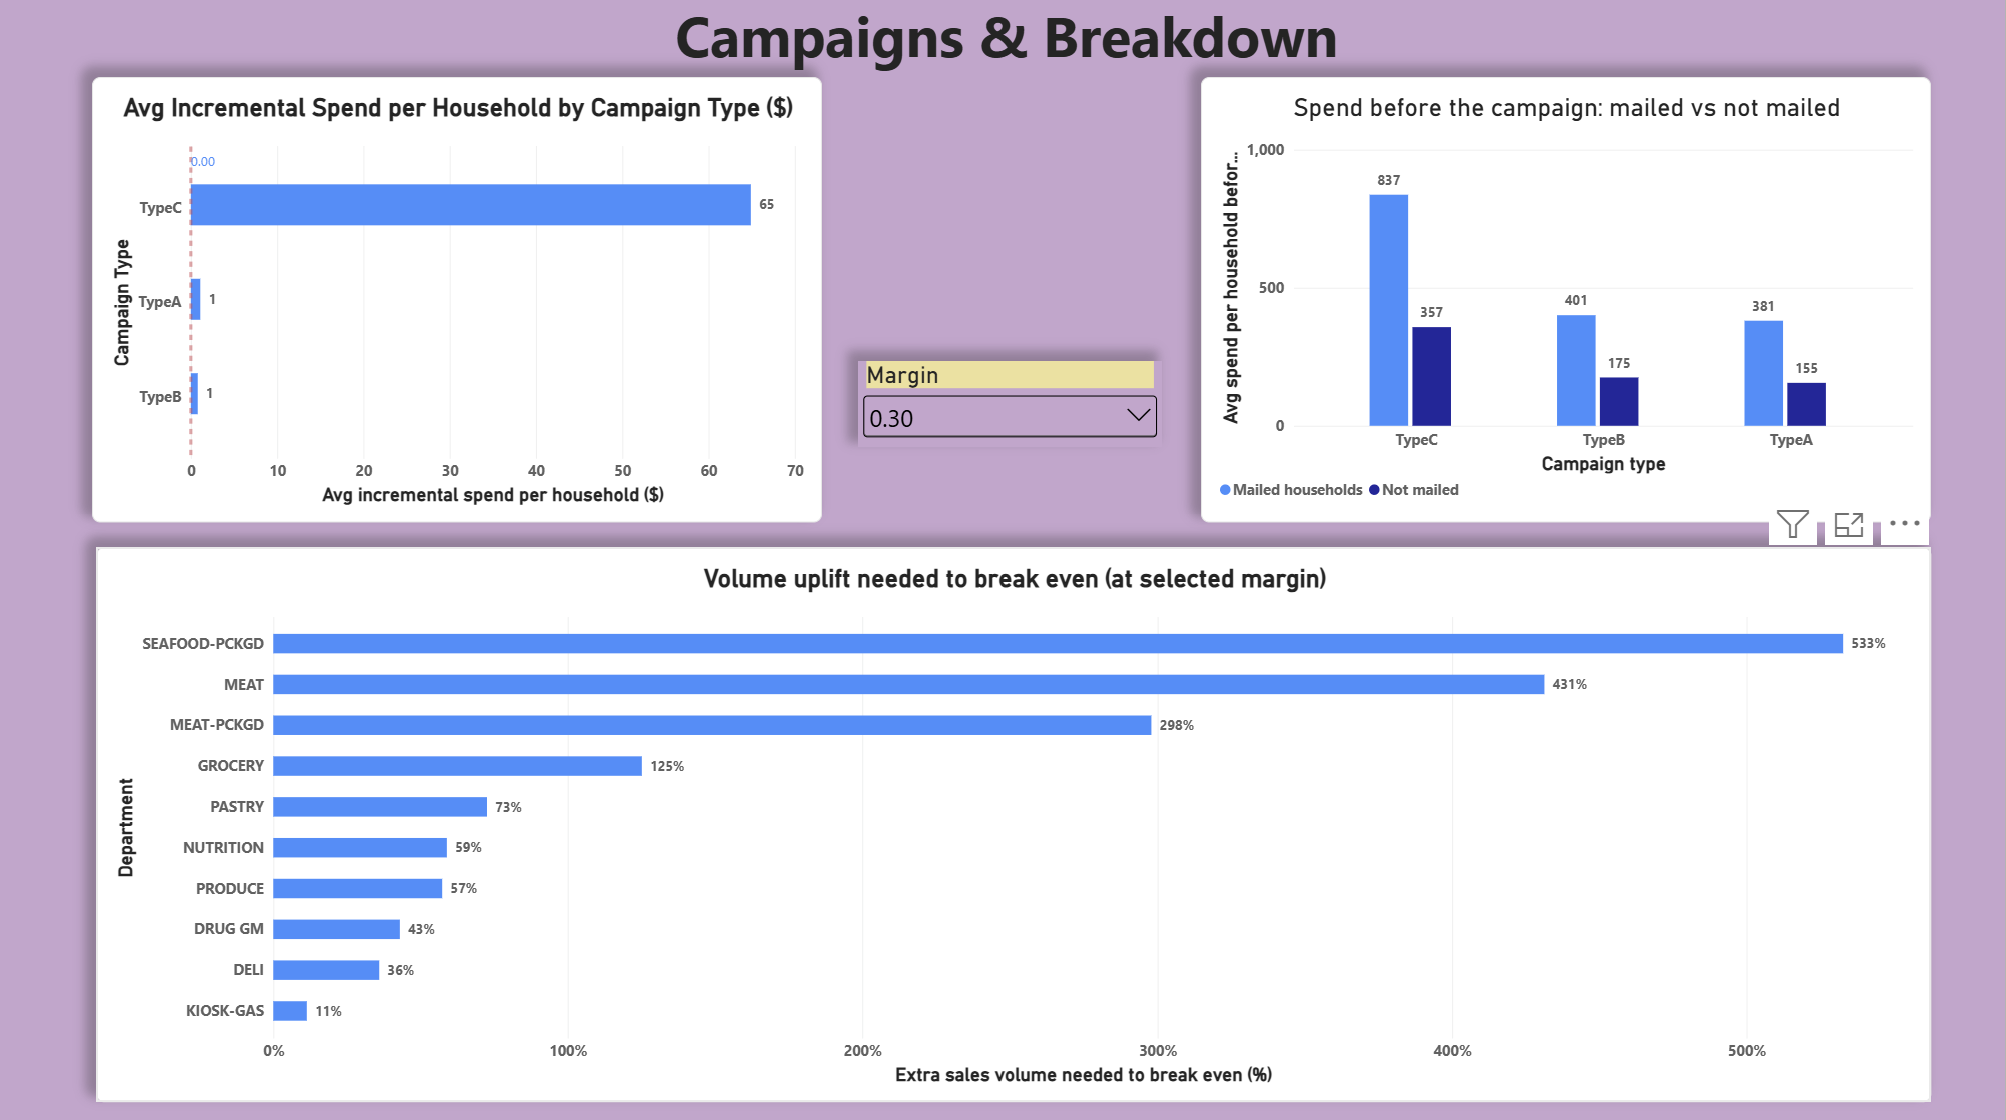

This screenshot's page, from the dashboard's own definition file:
{"tool":"powerbi","page":{"name":"Page 3","canvas":[1920,1080],"ordinal":2},"visuals":[{"type":"textbox","box":[10.9,0,1909.1,76.6],"z":0},{"type":"clusteredBarChart","title":"Avg Incremental Spend per Household by Campaign Type ($)","fields":{"Category":["campaign_lift.campaign_type"],"Y":["campaign_lift.Avg Lift Abs"]},"box":[92,76,698,426],"z":1000},{"type":"slicer","fields":{"Values":["Margin.Margin"]},"box":[824,348,290,82],"z":2000},{"type":"clusteredColumnChart","title":"Spend before the campaign: mailed vs not mailed","fields":{"Category":["campaign_lift.campaign_type"],"Y":["campaign_lift.Avg Mailed Pre","campaign_lift.Avg Other Pre"]},"box":[1152,76,698,426],"z":3000},{"type":"clusteredBarChart","title":"Volume uplift needed to break even (at selected margin)","fields":{"Category":["dept_summary.department"],"Y":["Margin.Break-even Uplift %"]},"box":[96,526,1754,530],"z":4000}]}

Visuals, with their boxes in screenshot pixels (x1, y1, x2, y2), scaled from the page's 1920x1080 canvas onto the 2006x1120 screenshot:
textbox: {"x1": 11, "y1": 0, "x2": 2005, "y2": 79}
"Avg Incremental Spend per Household by Campaign Type ($)" clusteredBarChart: {"x1": 96, "y1": 79, "x2": 825, "y2": 521}
slicer - Margin.Margin: {"x1": 861, "y1": 361, "x2": 1164, "y2": 446}
"Spend before the campaign: mailed vs not mailed" clusteredColumnChart: {"x1": 1204, "y1": 79, "x2": 1933, "y2": 521}
"Volume uplift needed to break even (at selected margin)" clusteredBarChart: {"x1": 100, "y1": 545, "x2": 1933, "y2": 1095}
